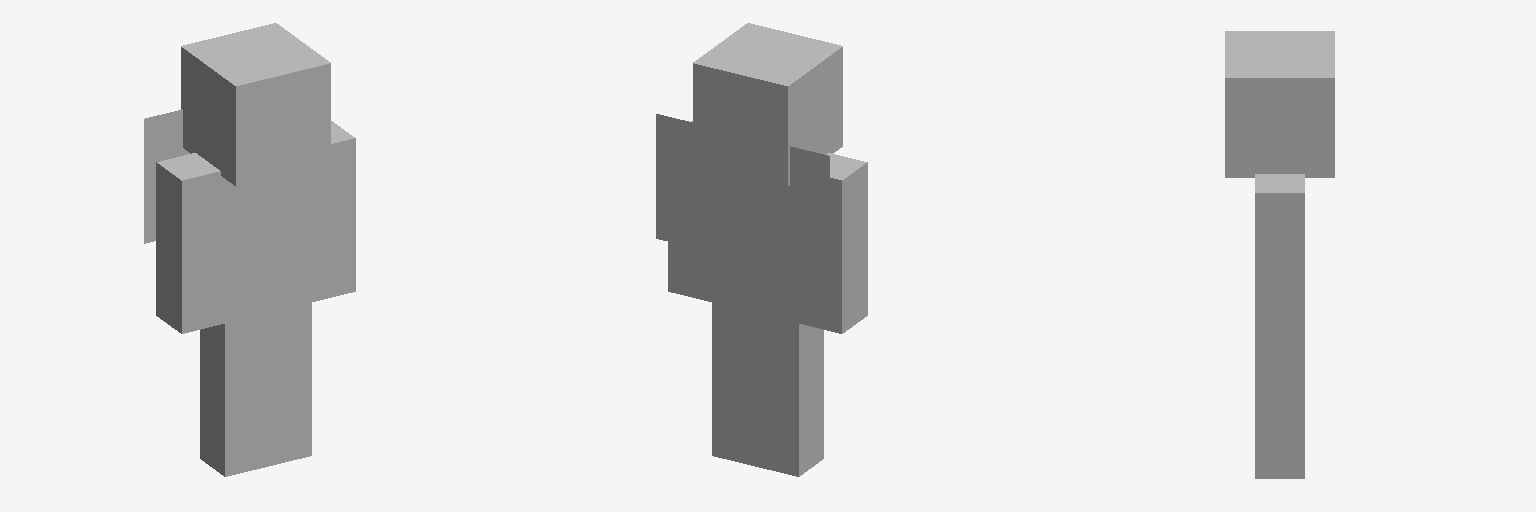
Rendered from vl_cosmetics_beard.obj.
The picture shows the model from 3 angles: view 1: azimuth 30°, elevation 25°; view 2: azimuth 150°, elevation 25°; view 3: azimuth 270°, elevation 25°; orthographic projection.
Parts seen in each view (by area): view 1: HeadPreview_Cube.014, Beard_Cube.011; view 2: HeadPreview_Cube.014, Beard_Cube.011; view 3: HeadPreview_Cube.014.
Part boxes in pixels (x1,y1,x2,y2): HeadPreview_Cube.014: (156,23,355,476); Beard_Cube.011: (144,109,190,243); HeadPreview_Cube.014: (668,23,867,476); Beard_Cube.011: (656,114,829,280); HeadPreview_Cube.014: (1225,31,1334,478).
Size of the model in its own units: 8 by 17.7 by 4.4.